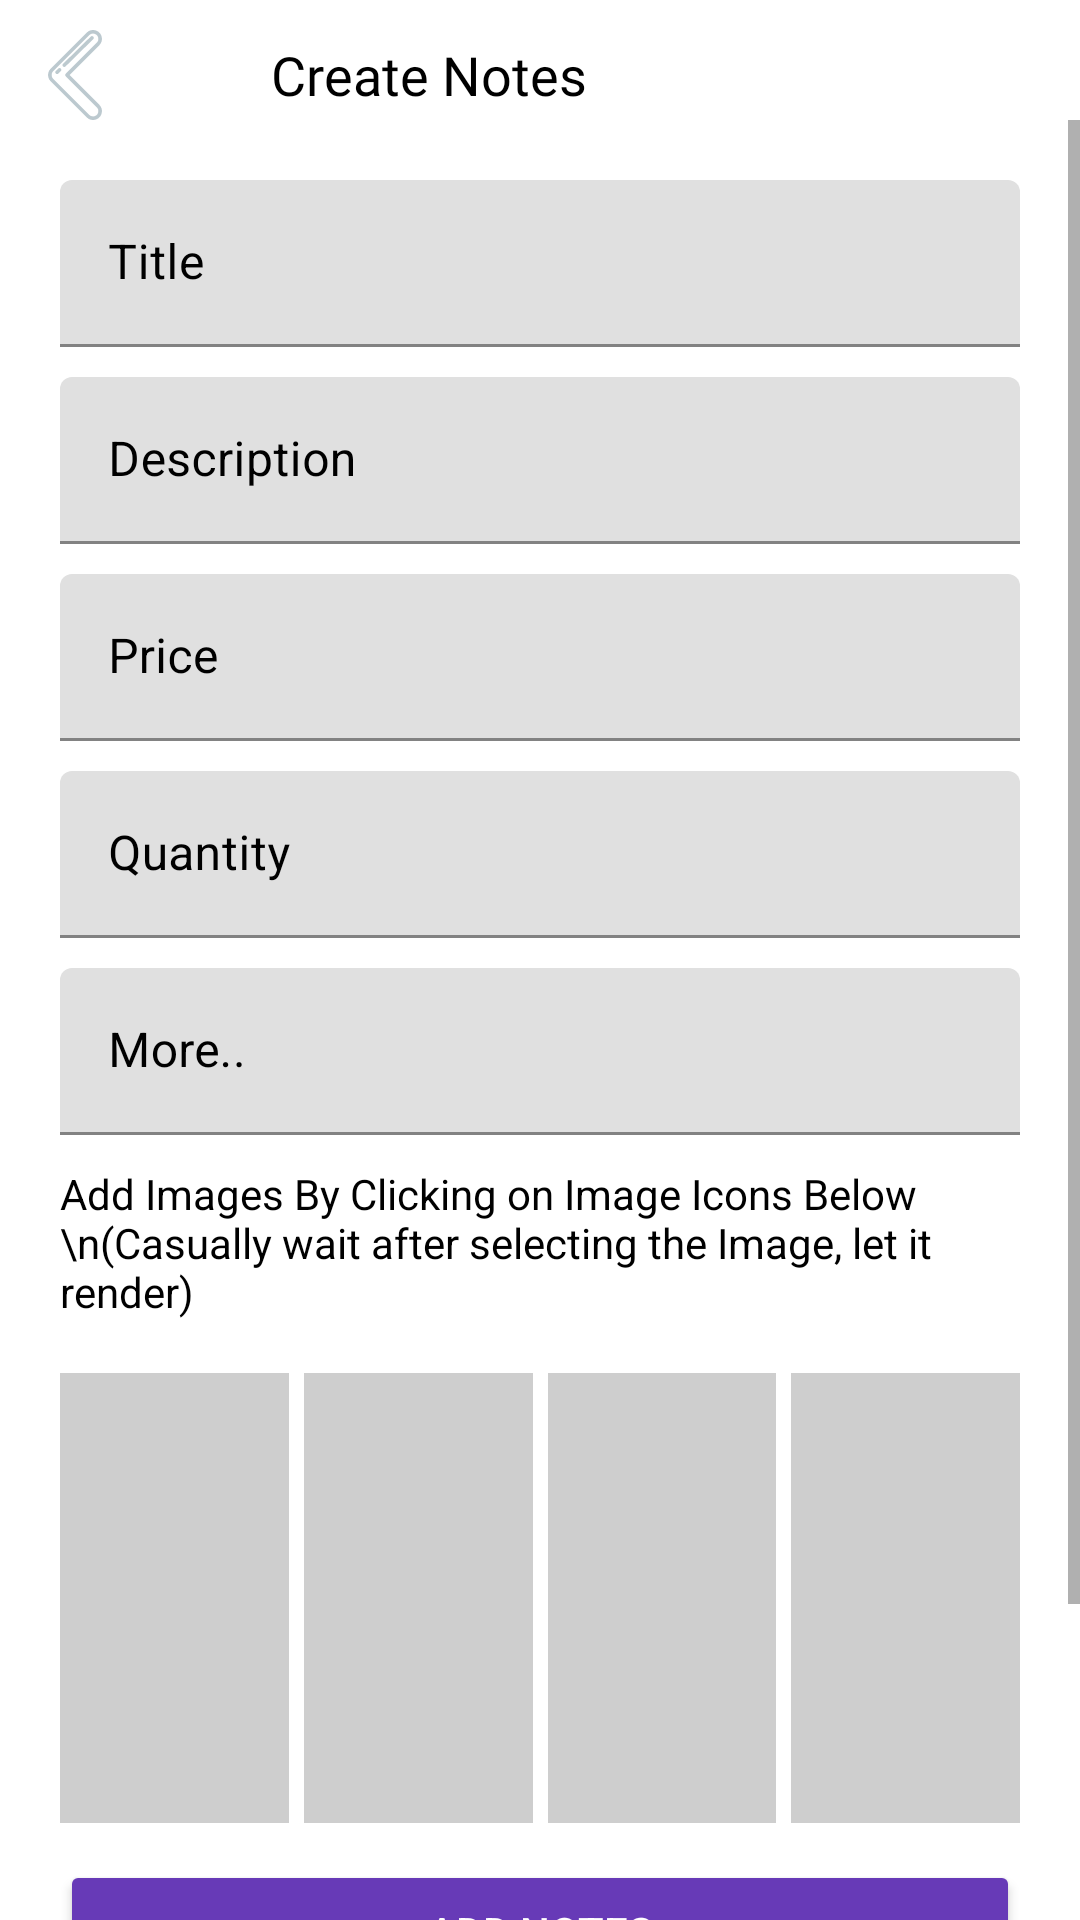

Where icons sit on this 1080w x 1920h app screen, as (x1, y1, x2, y2):
backward: (48, 30, 102, 120)
